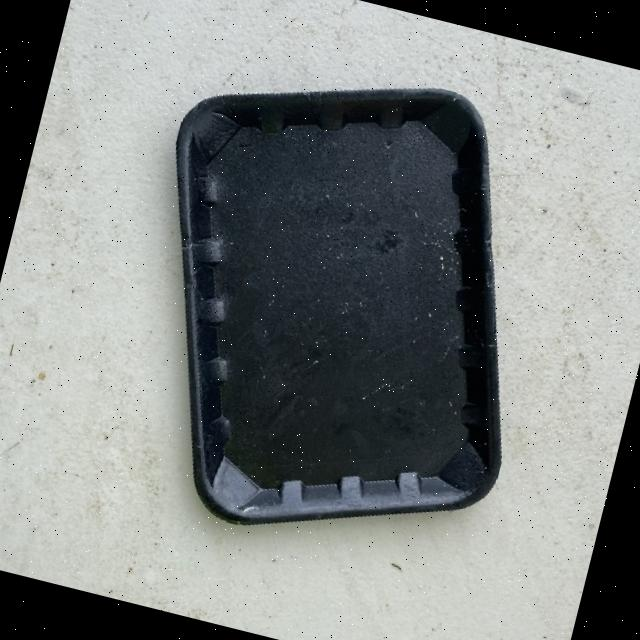styrofoam: (0, 0, 640, 640), (86, 26, 586, 583)
